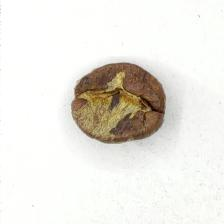NG: (73, 72, 151, 143)
